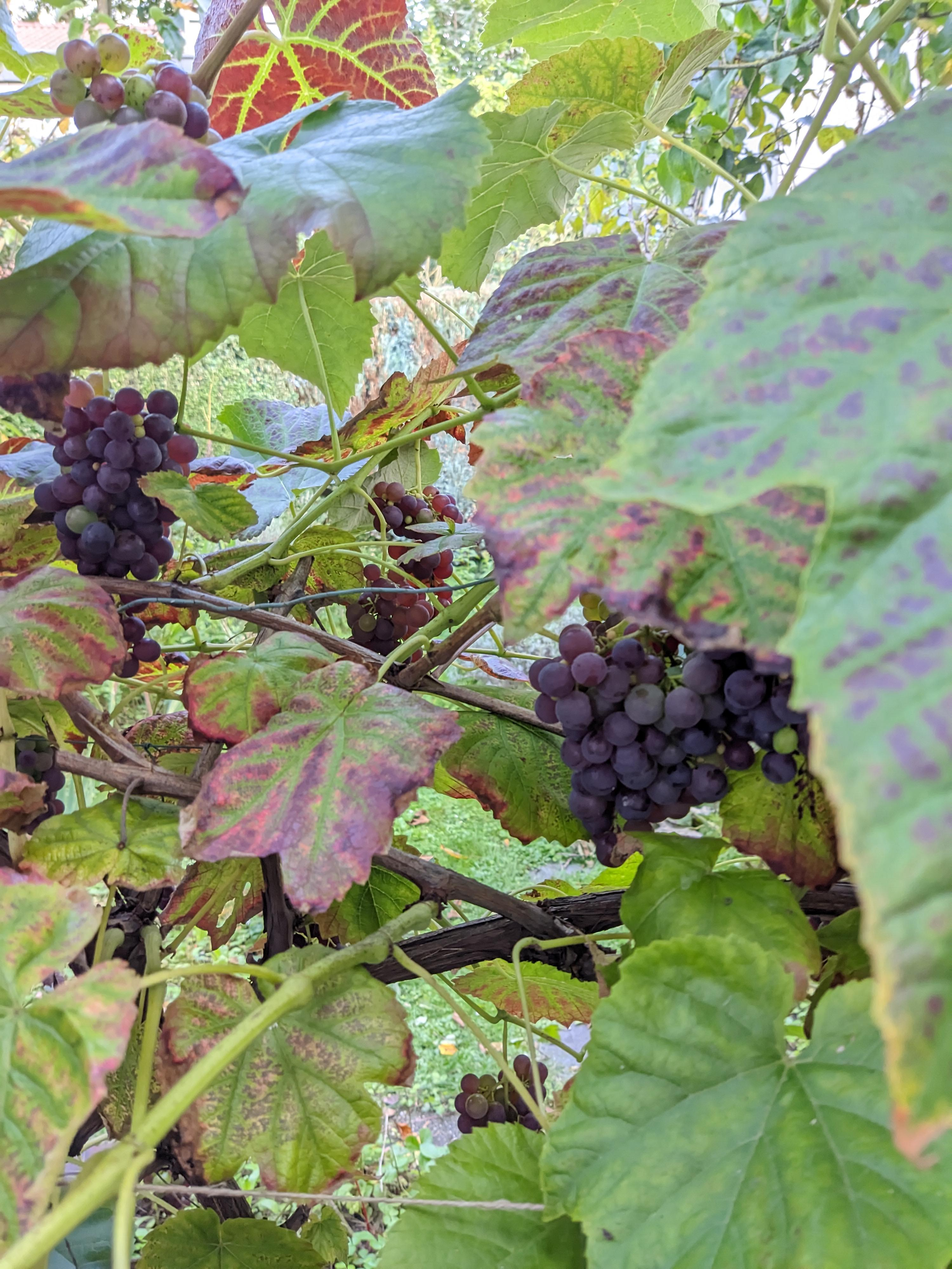Grape Unripe: (529, 617, 816, 867), (35, 383, 198, 678), (345, 479, 464, 659), (46, 33, 226, 151), (454, 1052, 549, 1132), (14, 736, 65, 816)
